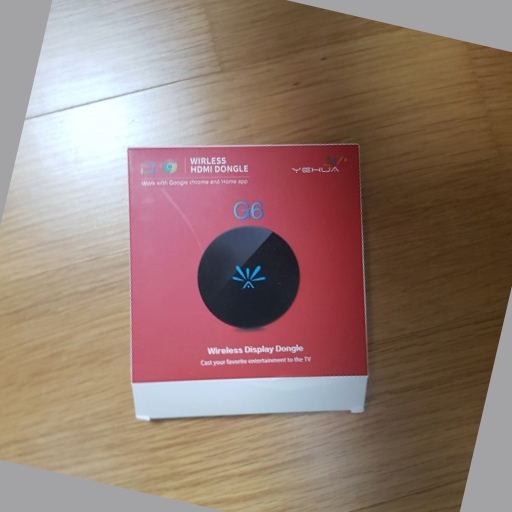Paper_0: (125, 137, 379, 427)
